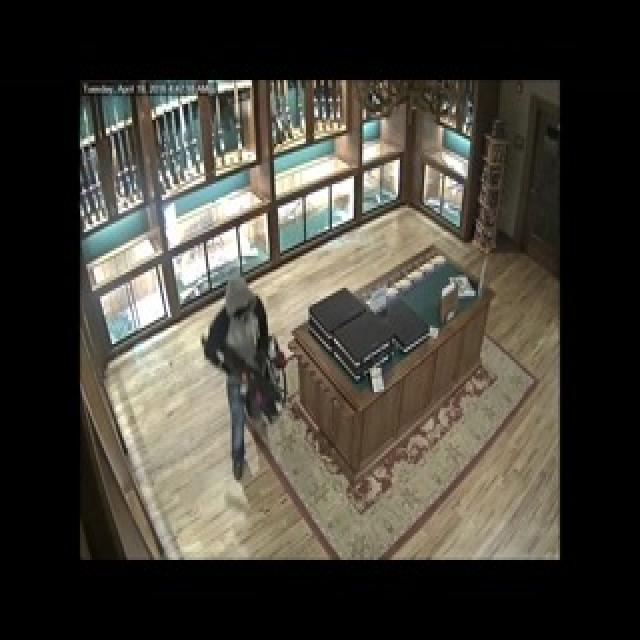thief: (196, 271, 282, 470)
